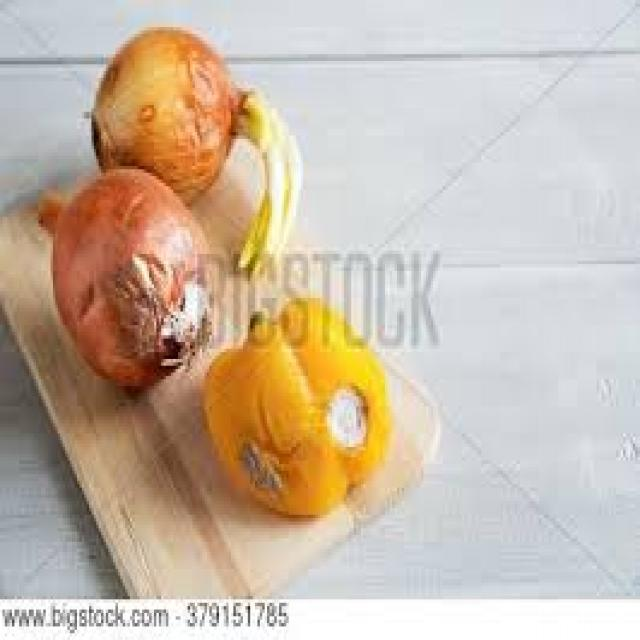organic waste: (202, 294, 387, 514), (36, 163, 212, 386), (86, 24, 234, 203), (231, 85, 301, 271)
